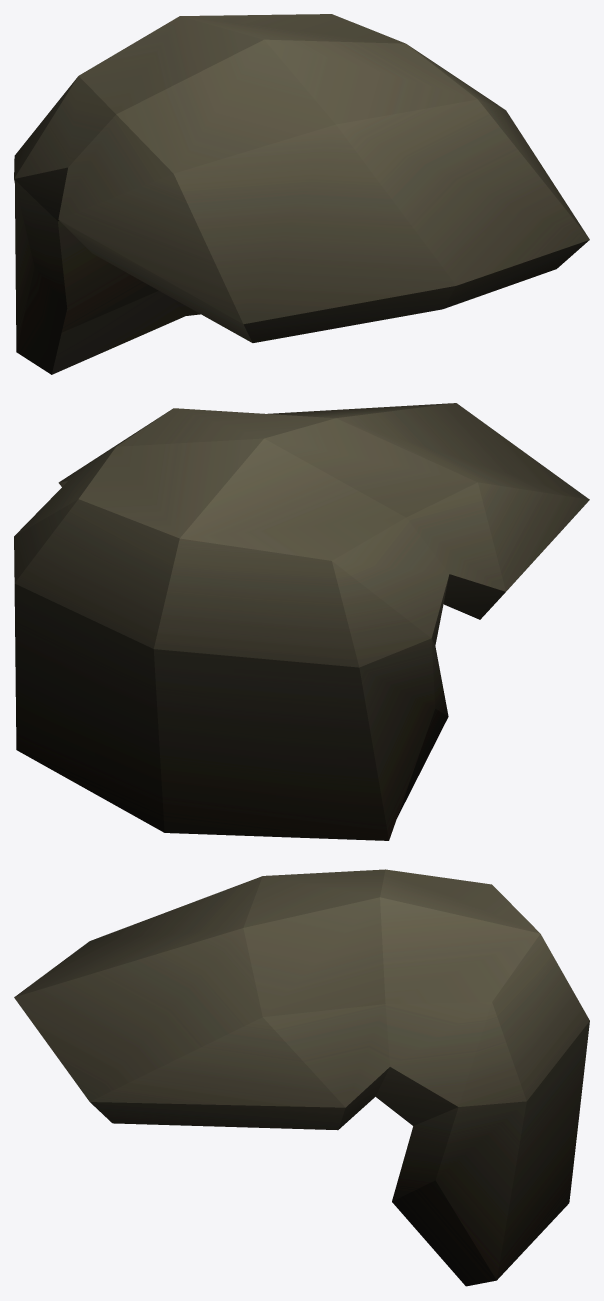
File: goblinGolfHat.FBX
3 views of the same model, one above another, from view 1: azimuth 30°, elevation 25°; view 2: azimuth 150°, elevation 25°; view 3: azimuth 270°, elevation 25° (orthographic). The views are drawn at different scales.
Visible parts, largest first — view 1: golfHat; view 2: golfHat; view 3: golfHat.
Boxes of the visible parts, bbox=[...] form: golfHat: bbox=[14, 14, 589, 374]; golfHat: bbox=[14, 403, 589, 840]; golfHat: bbox=[14, 869, 589, 1286].
Bounding box in the file's own units: 30.92 × 22.04 × 36.23.
